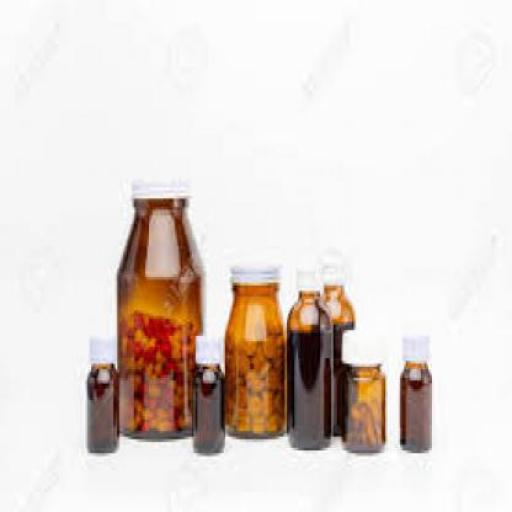glass: (114, 196, 205, 437), (220, 280, 285, 434), (286, 288, 328, 448), (320, 285, 352, 436), (340, 364, 382, 454), (398, 358, 430, 451), (82, 360, 115, 450), (192, 364, 224, 450)
metal: (338, 327, 384, 361), (229, 260, 277, 289), (130, 176, 188, 196), (194, 330, 223, 360), (399, 330, 428, 358), (316, 249, 341, 280), (88, 333, 114, 361), (296, 265, 317, 291)
